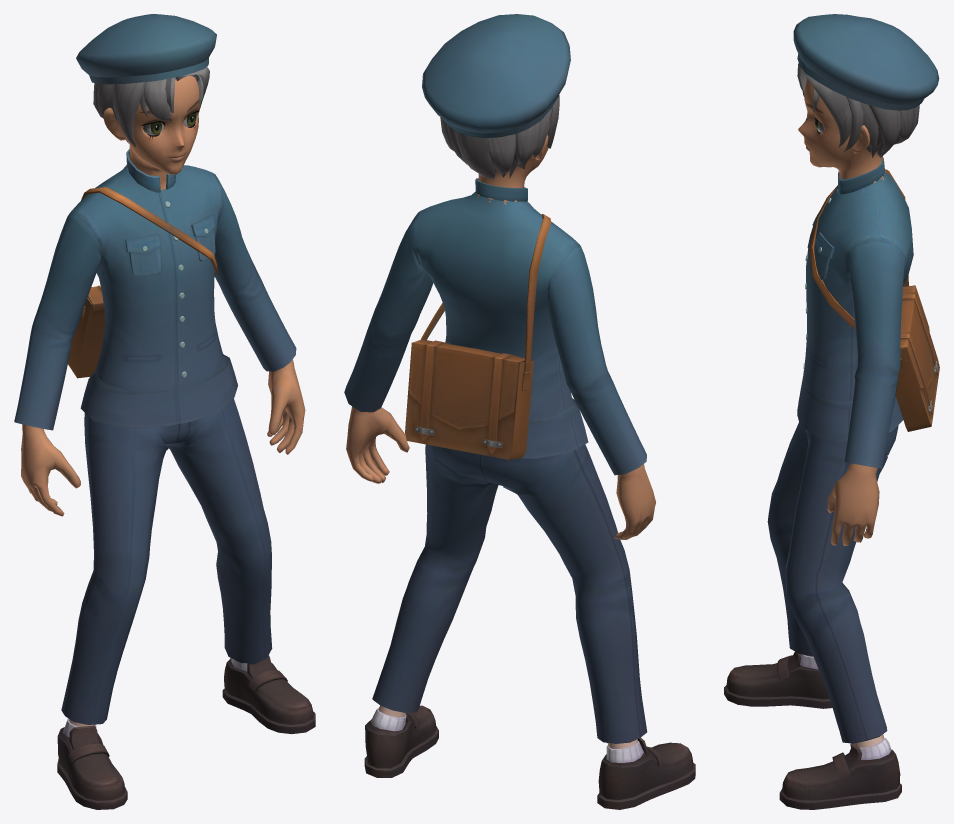
The picture shows the model from 3 angles, left to right: view 1: azimuth 30°, elevation 25°; view 2: azimuth 150°, elevation 25°; view 3: azimuth 270°, elevation 25°; orthographic projection. The views are drawn at different scales.
Parts seen in each view (by area): view 1: UpperTorso, RightUpperLeg, LeftUpperLeg, acc_Hat_AccAccessory, RightLowerLeg, LowerTorso, LeftLowerLeg, RightUpperArm, Head, LeftFoot, RightFoot, RightLowerArm (+5 smaller); view 2: UpperTorso, acc_Hat_AccAccessory, RightLowerLeg, LeftLowerLeg, RightUpperLeg, LeftUpperLeg, RightUpperArm, LowerTorso, RightFoot, LeftUpperArm, RightLowerArm, acc_Hair_AccAccessory (+5 smaller); view 3: UpperTorso, acc_Hat_AccAccessory, LeftLowerLeg, LeftUpperLeg, LeftUpperArm, LeftFoot, RightFoot, LeftLowerArm, acc_Hair_AccAccessory, Head, LeftHand, LowerTorso (+2 smaller).
Boxes of the visible parts, box(x1,y1,x2,y2) form: UpperTorso: box(68, 149, 223, 392); RightUpperLeg: box(84, 413, 168, 588); LeftUpperLeg: box(165, 398, 271, 559); acc_Hat_AccAccessory: box(76, 14, 216, 84); RightLowerLeg: box(61, 570, 144, 737); LowerTorso: box(80, 354, 237, 443); LeftLowerLeg: box(216, 542, 272, 671); RightUpperArm: box(32, 213, 101, 338); Head: box(103, 76, 200, 182); LeftFoot: box(222, 655, 315, 734); RightFoot: box(57, 725, 127, 809); RightLowerArm: box(14, 326, 72, 433); UpperTorso: box(405, 178, 580, 459); acc_Hat_AccAccessory: box(422, 14, 570, 138); RightLowerLeg: box(572, 571, 647, 762); LeftLowerLeg: box(371, 547, 475, 731); RightUpperLeg: box(503, 444, 629, 585); LeftUpperLeg: box(425, 444, 498, 564); RightUpperArm: box(547, 247, 607, 391); LowerTorso: box(432, 398, 588, 489); RightFoot: box(597, 737, 695, 809); LeftUpperArm: box(370, 214, 433, 344); RightLowerArm: box(571, 371, 646, 476); acc_Hair_AccAccessory: box(440, 95, 559, 180); UpperTorso: box(803, 157, 939, 431); acc_Hat_AccAccessory: box(793, 14, 939, 110); LeftLowerLeg: box(787, 583, 891, 759); LeftUpperLeg: box(785, 430, 887, 595); LeftUpperArm: box(847, 241, 905, 371); LeftFoot: box(779, 743, 901, 809); RightFoot: box(724, 651, 832, 708); LeftLowerArm: box(844, 367, 898, 474); acc_Hair_AccAccessory: box(797, 63, 919, 157); Head: box(798, 79, 886, 183); LeftHand: box(827, 467, 879, 545); LowerTorso: box(797, 376, 903, 455).
Bounding box in the file's own units: 2.3 × 5.58 × 1.51.
Materials: 17 (17 with a texture image).
